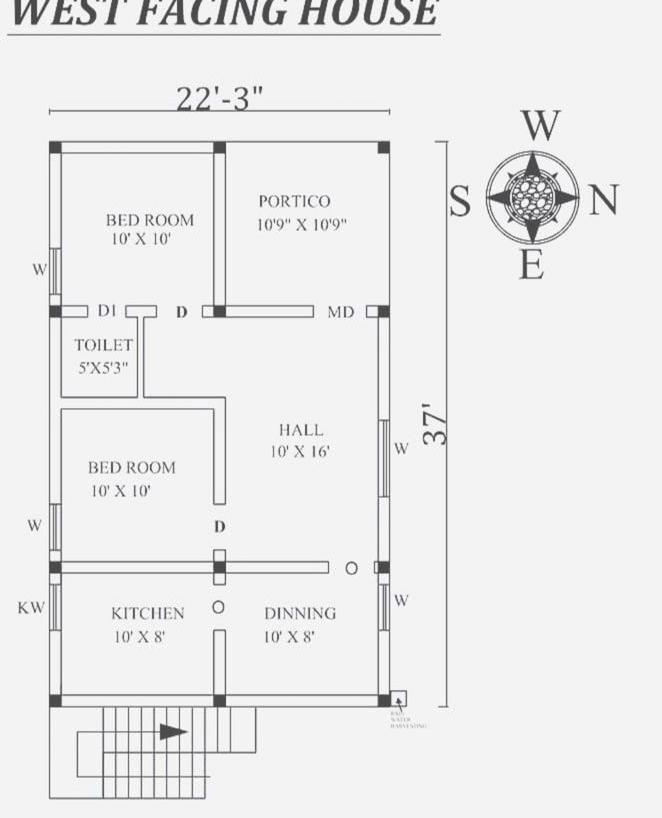Blueprint: (34, 132, 402, 717)
wall: (46, 301, 229, 509), (224, 692, 380, 710), (60, 559, 217, 576), (61, 693, 216, 709), (59, 140, 216, 155), (212, 150, 226, 308), (46, 150, 64, 250), (224, 560, 331, 576), (377, 315, 392, 423), (223, 304, 316, 318), (376, 494, 392, 564), (47, 628, 63, 696), (377, 628, 392, 698), (212, 627, 227, 697), (59, 304, 89, 320), (47, 292, 64, 308), (363, 304, 380, 320), (211, 548, 228, 564), (212, 570, 228, 587), (377, 571, 392, 586), (48, 548, 63, 563), (48, 571, 62, 587)
